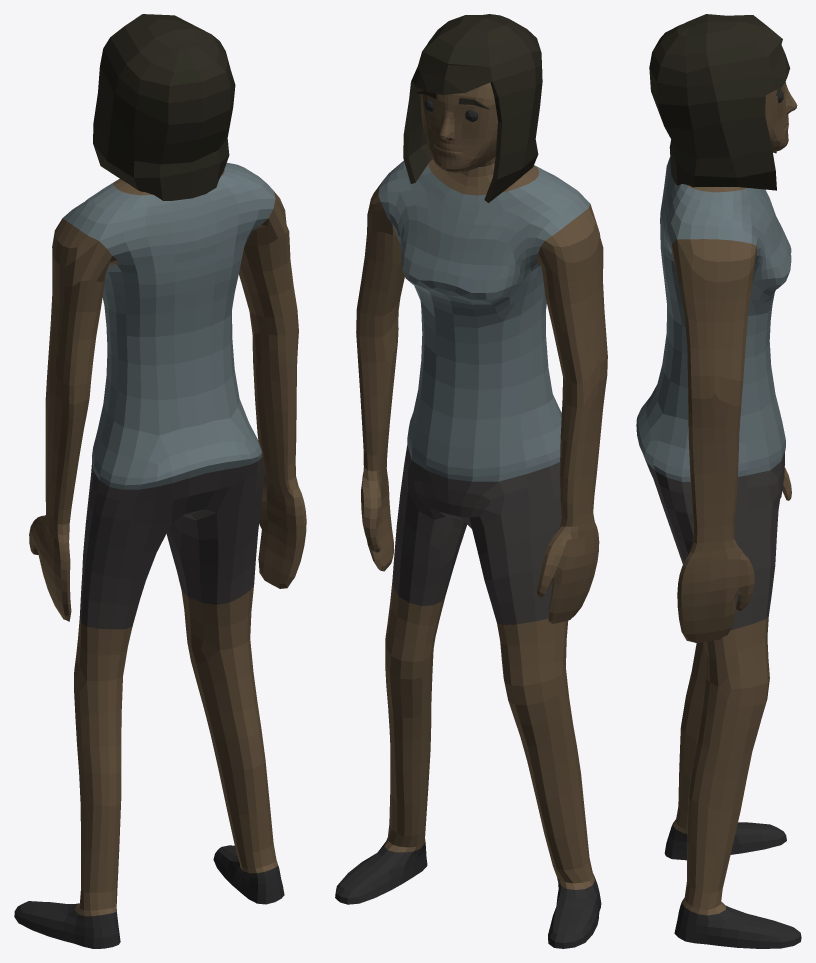
The model's file is Smooth_Female_TankTop.glb.
3 renders of one model, left to right at view 1: azimuth 30°, elevation 25°; view 2: azimuth 150°, elevation 25°; view 3: azimuth 270°, elevation 25°, orthographic.
Parts seen in each view (by area): view 1: Smooth_Female_TankTop; view 2: Smooth_Female_TankTop; view 3: Smooth_Female_TankTop.
Boxes of the visible parts, x1,y1,x2,y2 form: Smooth_Female_TankTop: (14, 14, 306, 948); Smooth_Female_TankTop: (335, 14, 607, 948); Smooth_Female_TankTop: (636, 14, 801, 948).
Size of the model in its own units: 1.37 by 4.65 by 0.7968.
